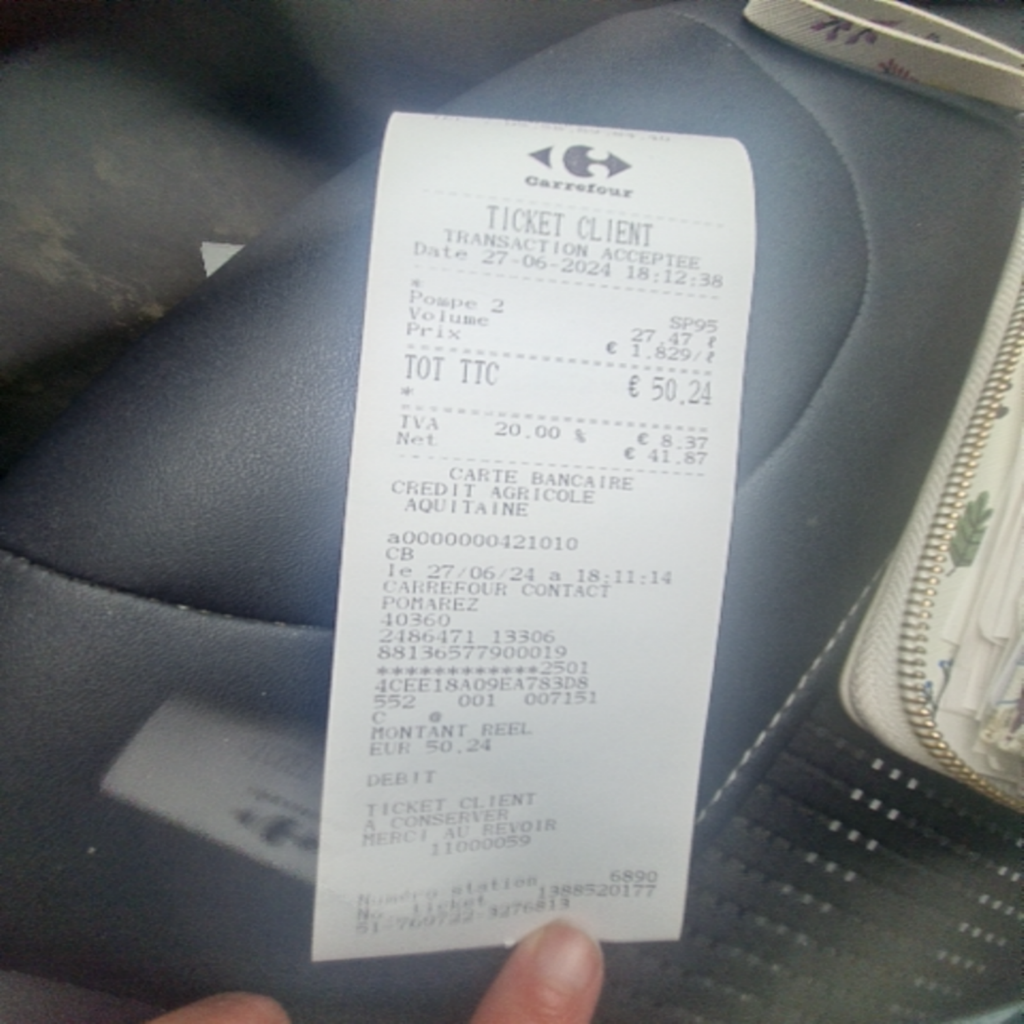recipt: (306, 109, 757, 965)
